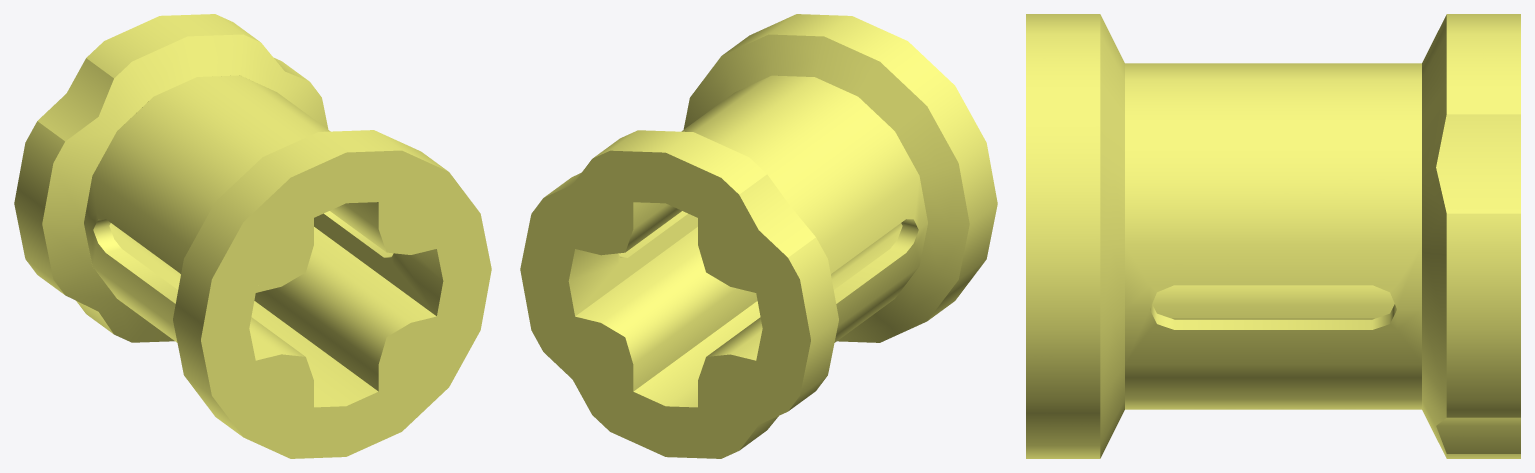
3 views of the same model, side by side, from view 1: azimuth 30°, elevation 25°; view 2: azimuth 150°, elevation 25°; view 3: azimuth 270°, elevation 25° (orthographic). The views are drawn at different scales.
Visible parts, largest first — view 1: 3713.dat; view 2: 3713.dat; view 3: 3713.dat.
Boxes of the visible parts, x1,y1,x2,y2 form: 3713.dat: (14,14,491,458); 3713.dat: (520,14,997,458); 3713.dat: (1026,14,1520,458).
Bounding box in the file's own units: 0.0072 × 0.0072 × 0.008.
